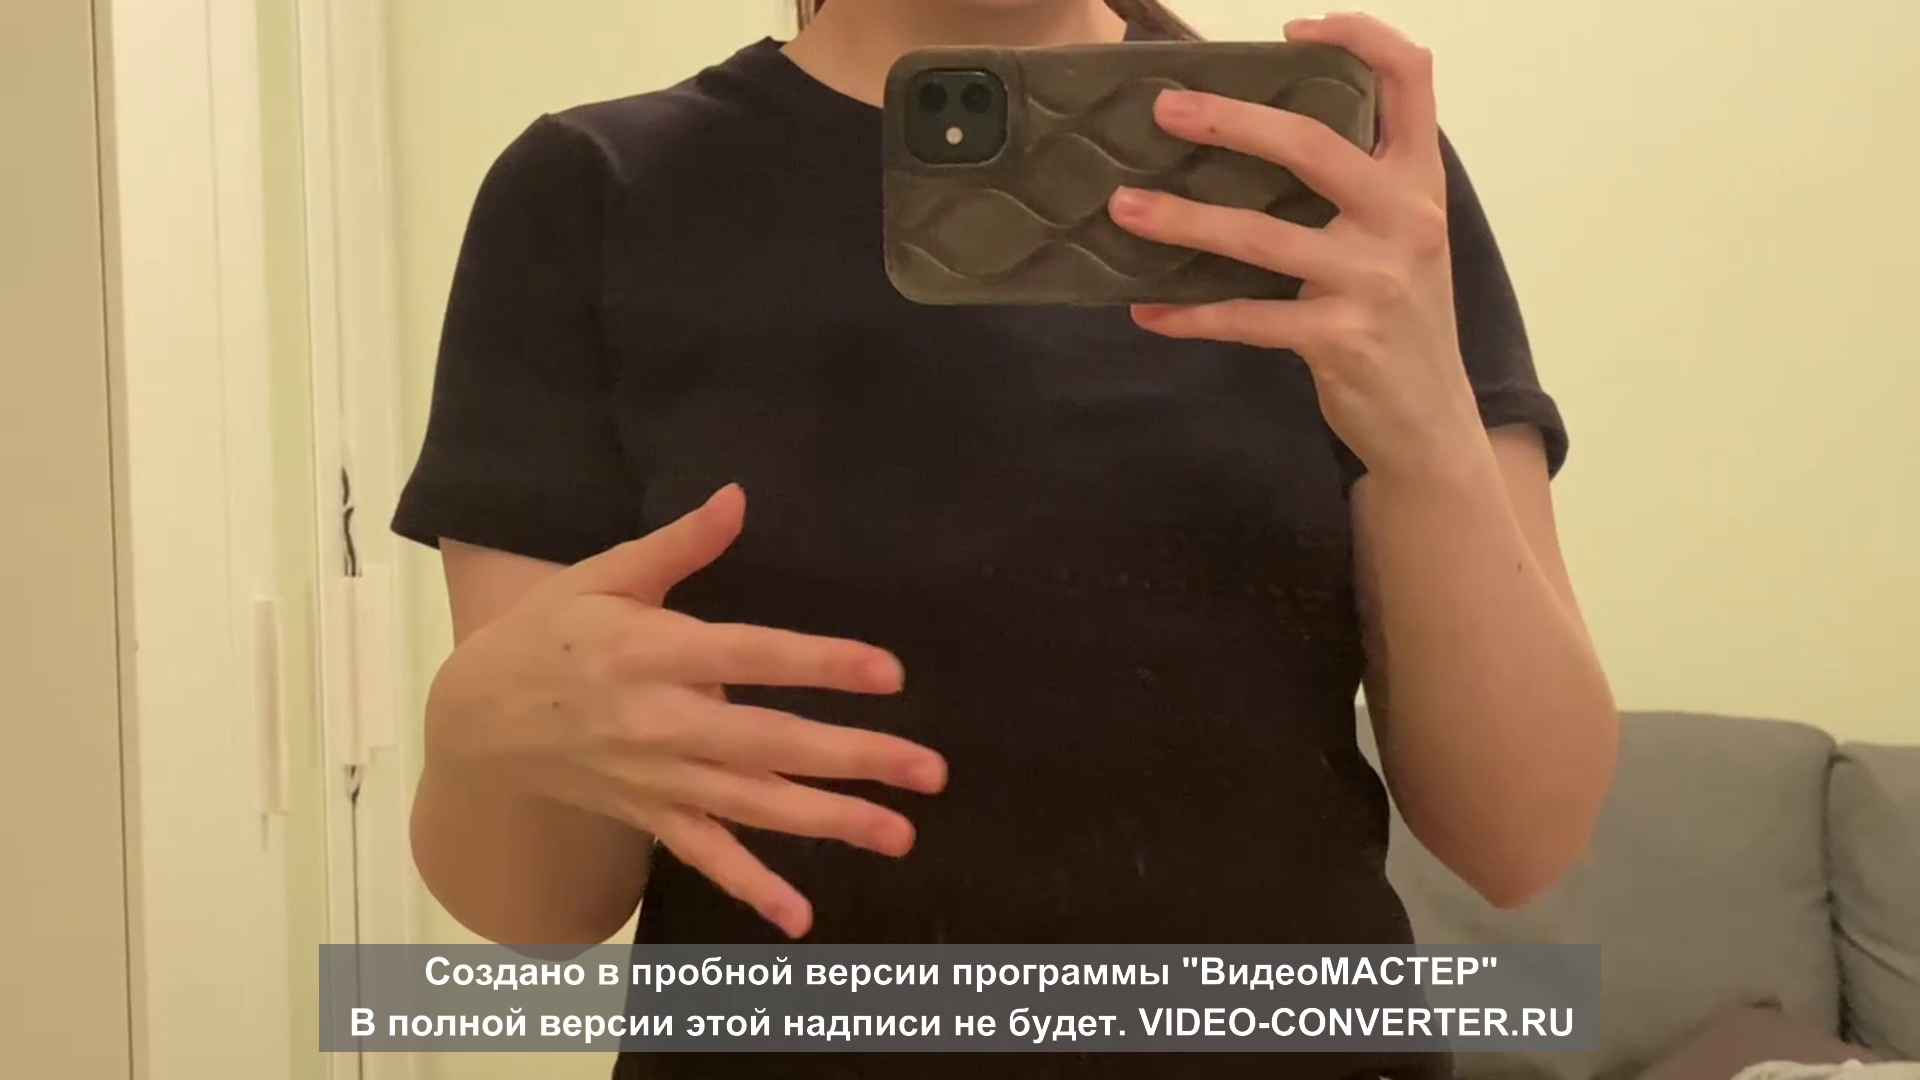Кисть: (427, 480, 948, 936)
